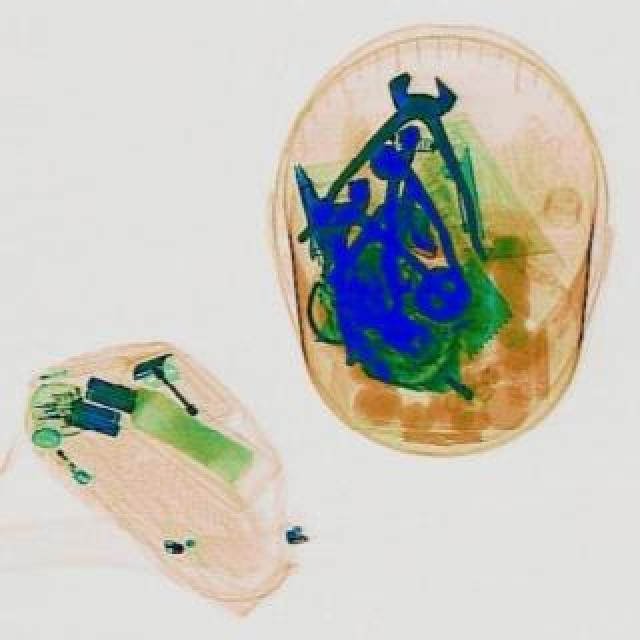wrench: (294, 56, 518, 268)
